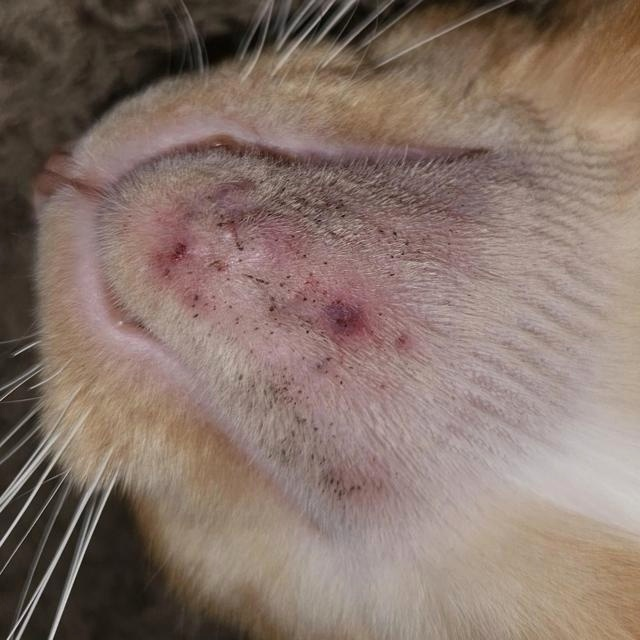acne: (160, 167, 427, 517)
